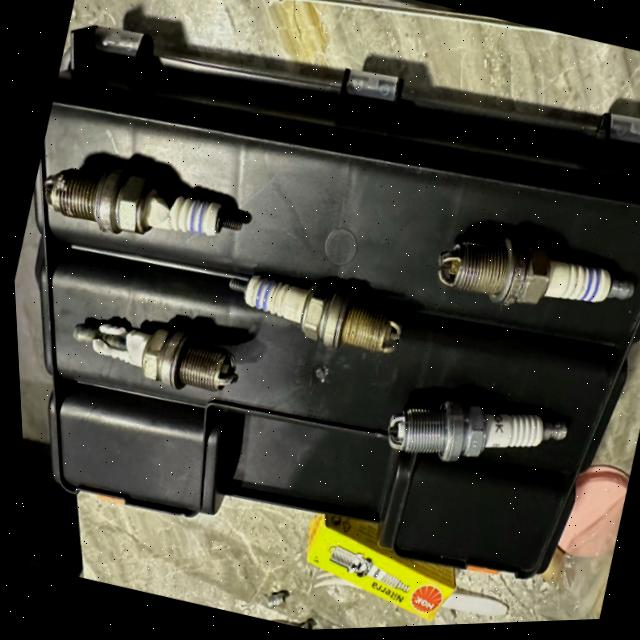damaged_spark-plug: (33, 137, 255, 288), (53, 297, 244, 421)
spark-plug: (429, 205, 640, 347), (362, 367, 573, 505), (218, 253, 416, 374)
